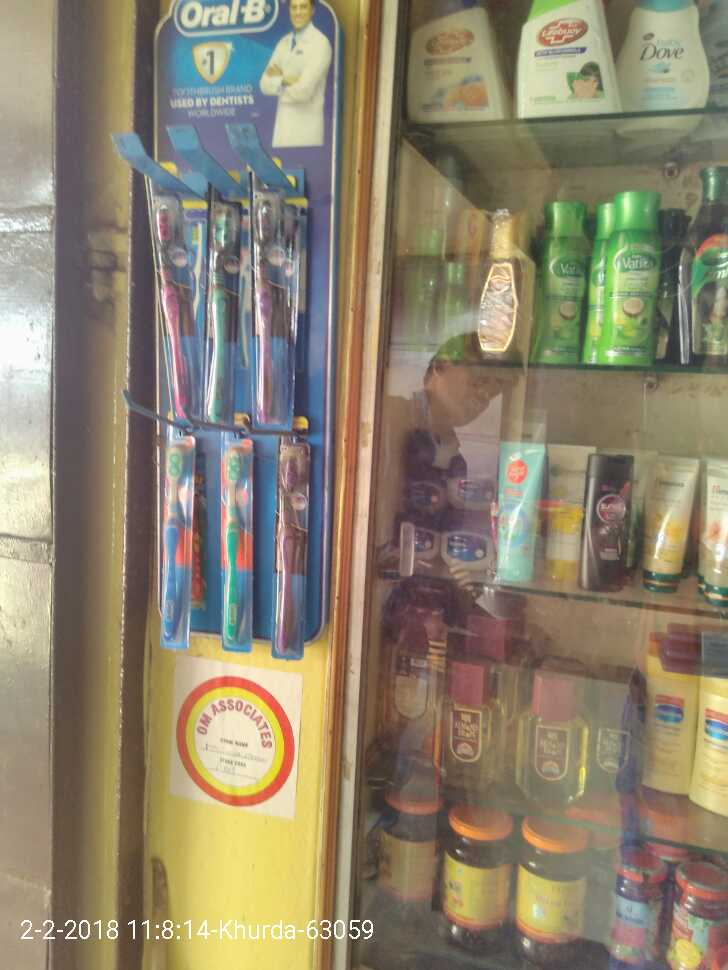oralb: (243, 161, 299, 429), (143, 169, 196, 421), (214, 429, 260, 653), (270, 429, 310, 655), (153, 430, 191, 652), (203, 192, 237, 432)
